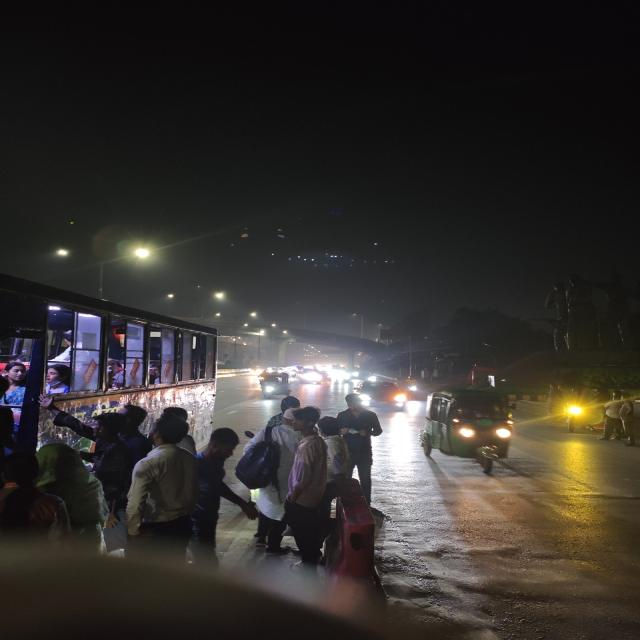car: (355, 378, 410, 412)
cng: (419, 386, 524, 474), (255, 370, 293, 398)
pedestrian: (122, 420, 215, 542), (277, 404, 336, 567), (338, 392, 378, 504), (598, 391, 638, 445)
